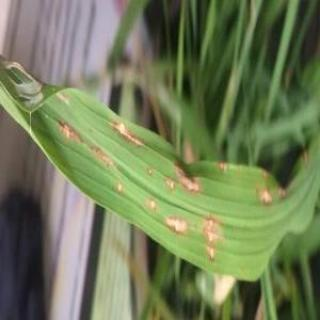Blast: (203, 217, 221, 259), (112, 121, 143, 145), (90, 146, 113, 165), (58, 122, 79, 140), (165, 218, 187, 233), (64, 125, 76, 138)
